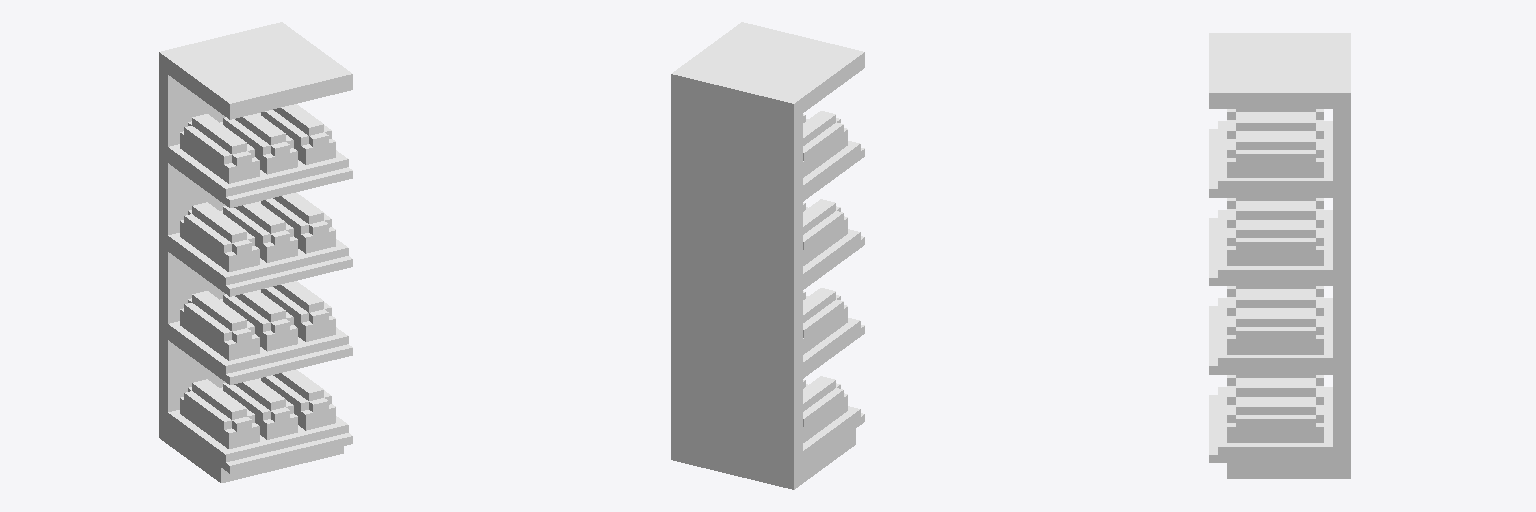
The model's file is fullBreadShelf.obj.
3 renders of one model, left to right at view 1: azimuth 30°, elevation 25°; view 2: azimuth 150°, elevation 25°; view 3: azimuth 270°, elevation 25°, orthographic.
Parts seen in each view (by area): view 1: object 1; view 2: object 1; view 3: object 1.
Boxes of the visible parts, x1=… form: object 1: x1=159, y1=22, x2=352, y2=482; object 1: x1=671, y1=22, x2=864, y2=489; object 1: x1=1209, y1=33, x2=1350, y2=478.
Bounding box in the file's own units: 1.6 × 4.8 × 1.6.